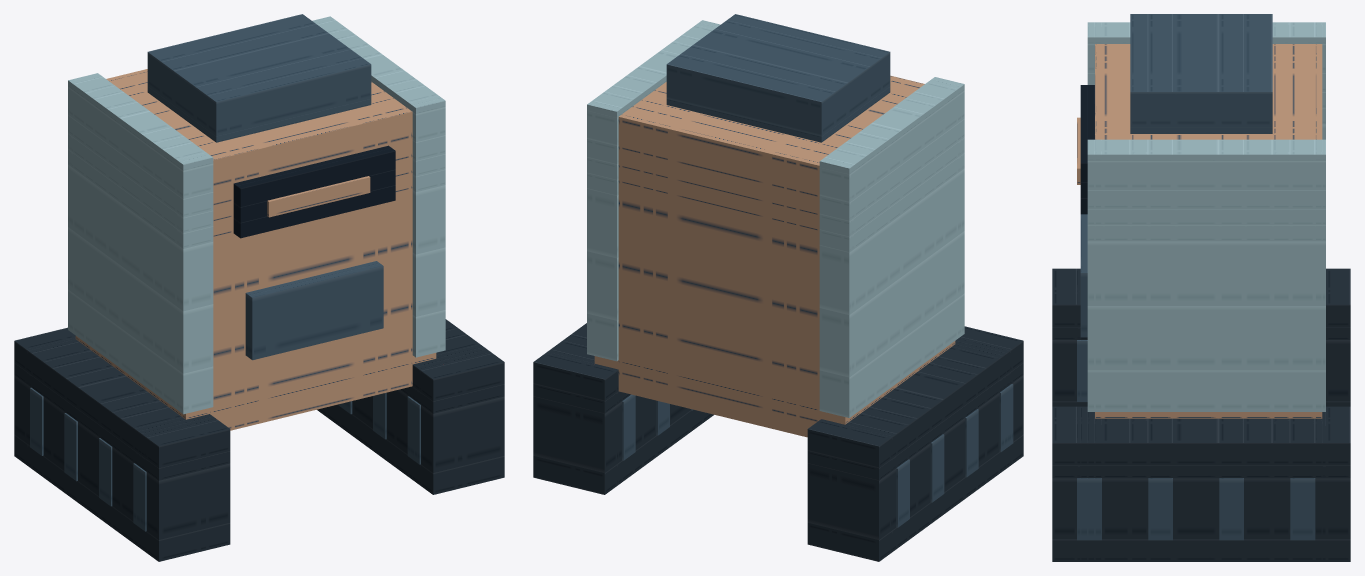
Rendered from sc_robot_crate.obj.
3 views of the same model, side by side, from view 1: azimuth 30°, elevation 25°; view 2: azimuth 150°, elevation 25°; view 3: azimuth 270°, elevation 25° (orthographic). The views are drawn at different scales.
Size of the model in its own units: 11.7 by 13.1 by 8.4.
Materials: 1 (1 with a texture image).
